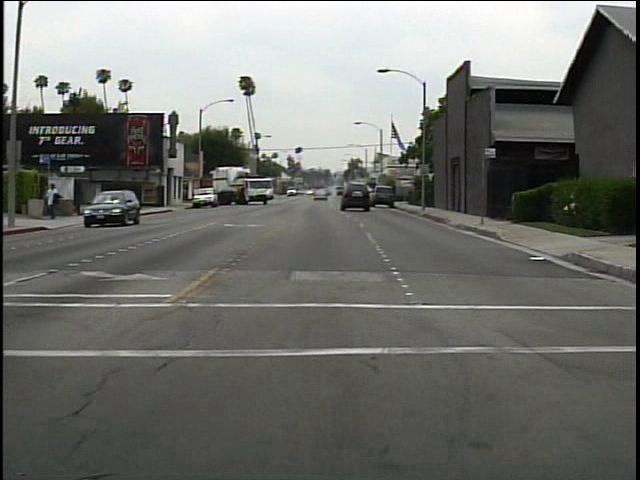person: (46, 181, 67, 224)
